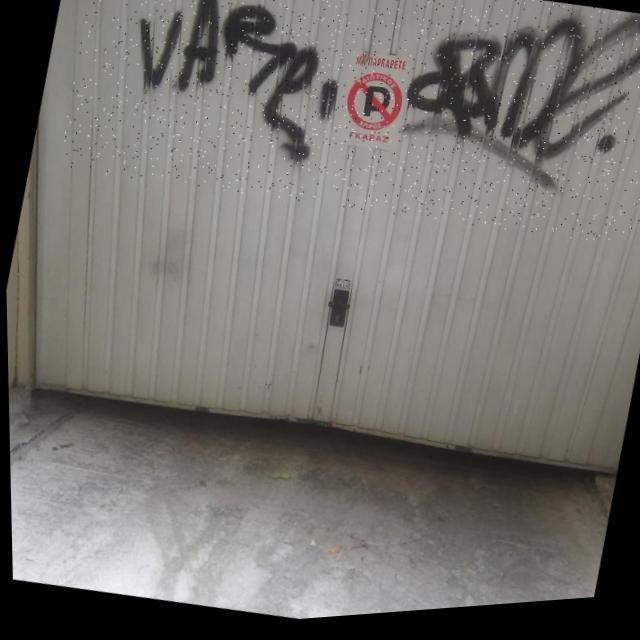-: (53, 0, 640, 292)
